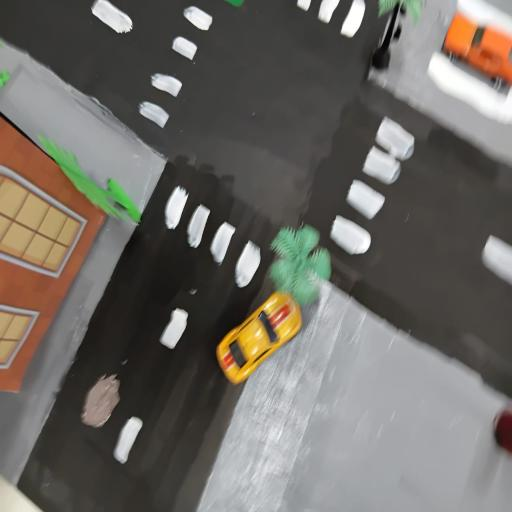car crash: (200, 220, 356, 402)
